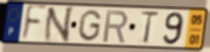9: (162, 11, 186, 47)
F: (20, 4, 49, 43)
G: (76, 9, 103, 43)
N: (42, 6, 76, 43)
R: (101, 9, 129, 44)
T: (139, 11, 161, 46)
